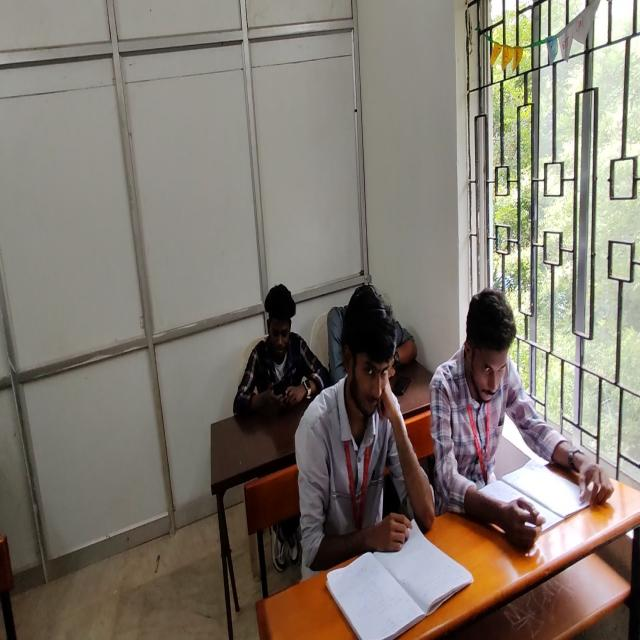listening: (434, 285, 615, 542), (294, 280, 429, 580)
sleeping: (327, 301, 415, 389)
using_mobile: (233, 282, 329, 416)
